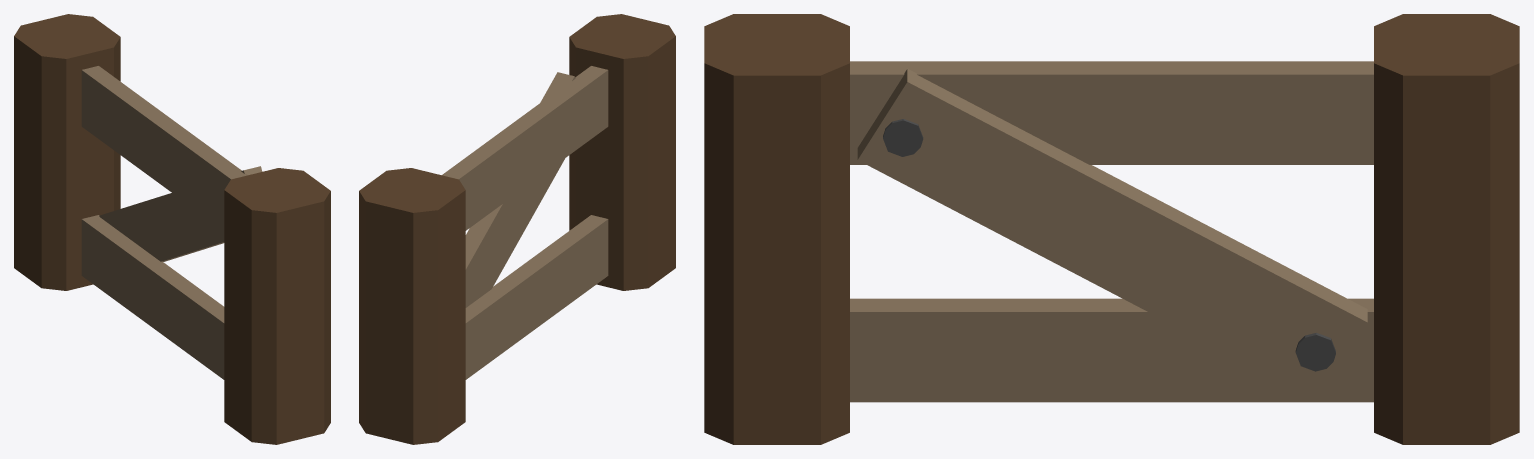
File: fence.fbx
3 views of the same model, side by side, from view 1: azimuth 30°, elevation 25°; view 2: azimuth 150°, elevation 25°; view 3: azimuth 270°, elevation 25° (orthographic). The views are drawn at different scales.
Parts seen in each view (by area): view 1: Cube.003, Cube.004, Cube.001, Cube, Cube.002; view 2: Cube.004, Cube.003, Cube.001, Cube, Cube.002; view 3: Cube.003, Cube.004, Cube.002, Cube.001, Cube, Cylinder.001, Cylinder.
Boxes of the visible parts, box(x1,y1,x2,y2) form: Cube.003: box(224, 168, 330, 444); Cube.004: box(14, 14, 120, 290); Cube.001: box(81, 66, 247, 230); Cube: box(81, 215, 224, 379); Cube.002: box(99, 166, 262, 261); Cube.004: box(359, 168, 465, 444); Cube.003: box(569, 14, 675, 290); Cube.001: box(442, 66, 608, 230); Cube: box(465, 215, 608, 379); Cube.002: box(465, 72, 575, 307); Cube.003: box(704, 14, 849, 444); Cube.004: box(1374, 14, 1519, 444); Cube.002: box(857, 68, 1367, 400); Cube.001: box(850, 61, 1373, 164); Cube: box(850, 298, 1373, 402); Cylinder.001: box(1295, 332, 1335, 371); Cylinder: box(883, 119, 923, 156).
Bounding box in the file's own units: 115 × 323 × 646.
